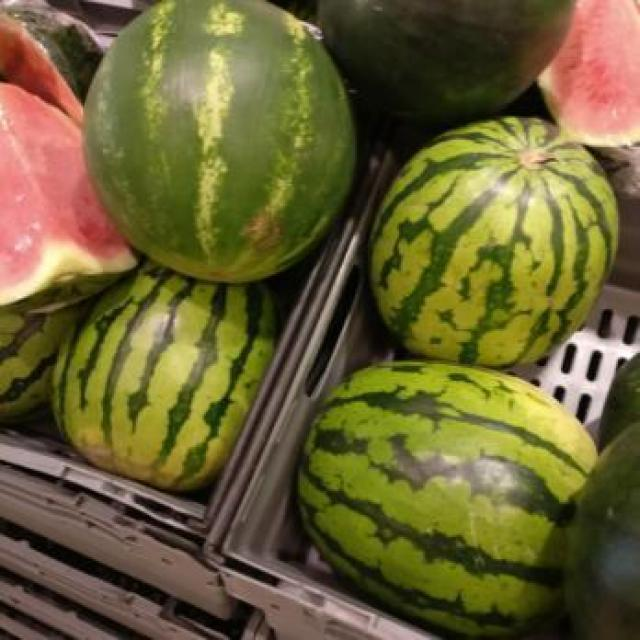Watermelon: (282, 355, 611, 637), (73, 0, 356, 294), (368, 116, 614, 376), (24, 263, 290, 493), (313, 0, 589, 130)
